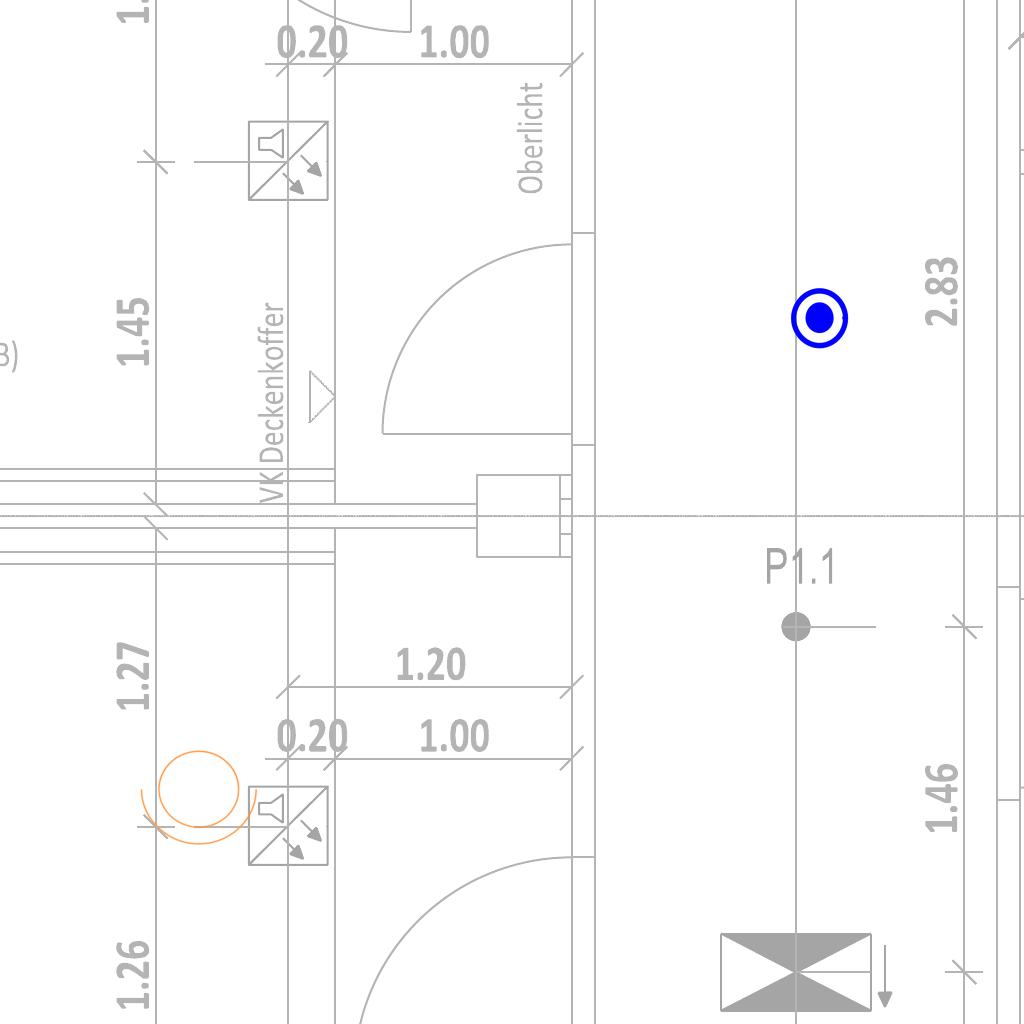Scheinwerfer_fuer_Alarmbeleuchtung: (136, 738, 268, 850)
Taster: (789, 285, 855, 351)
